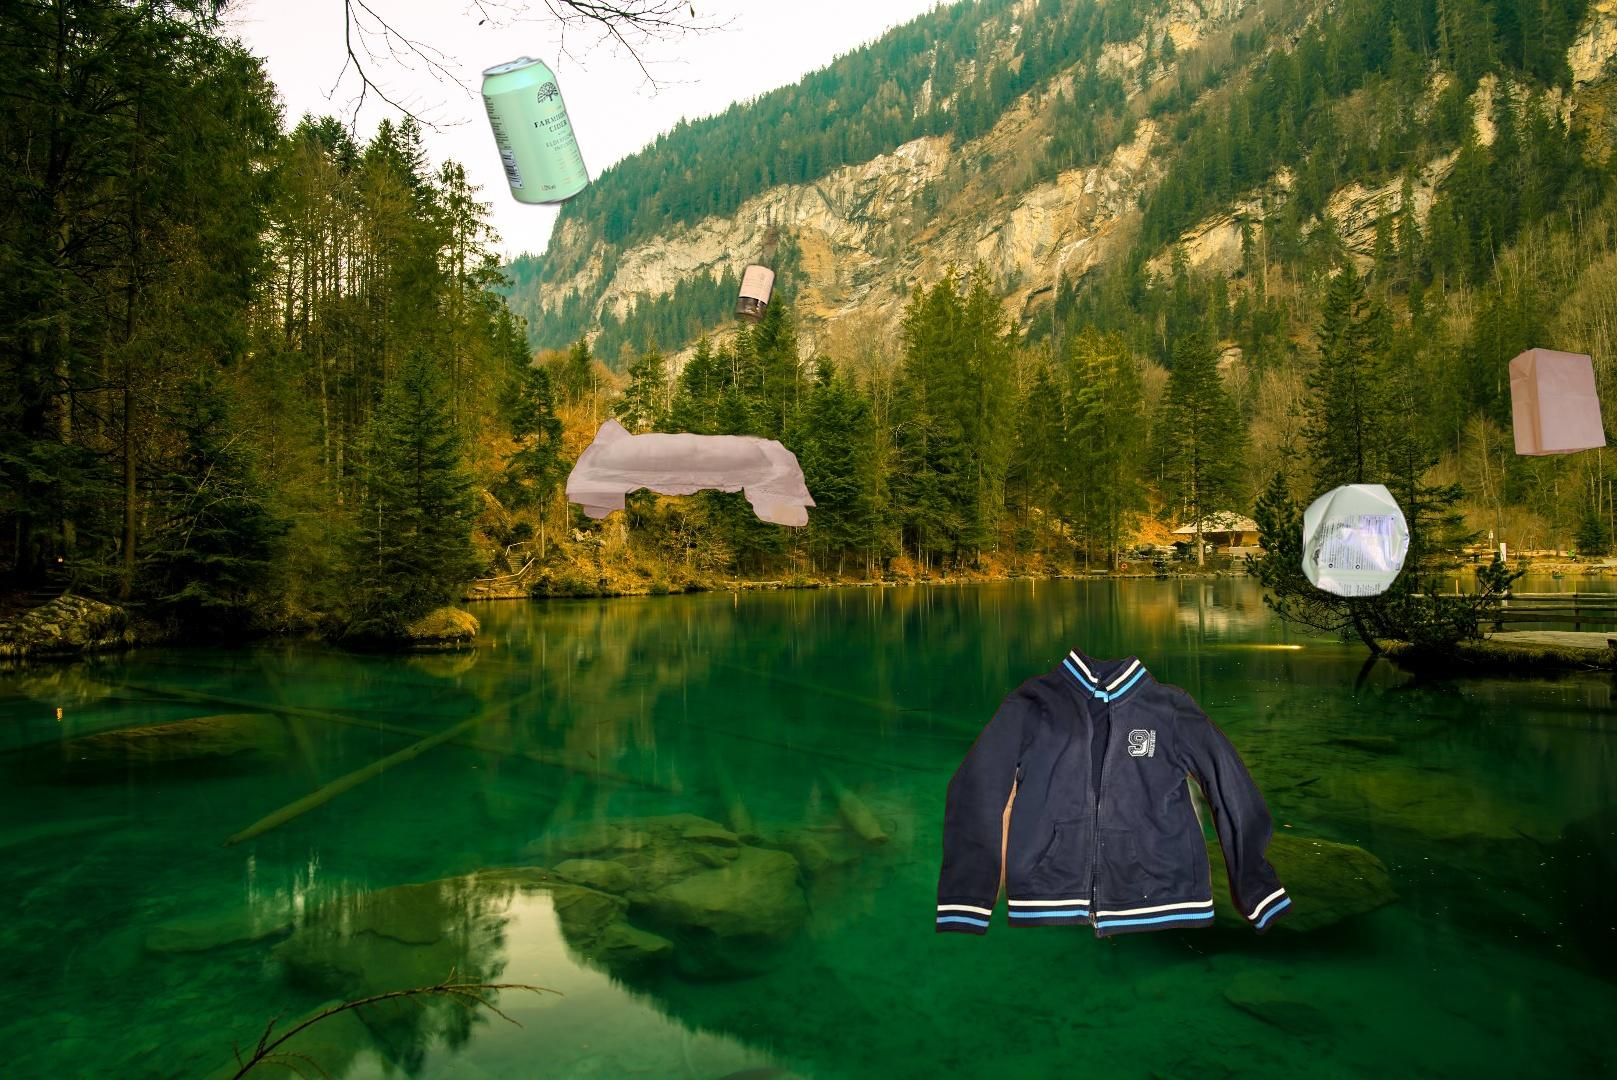clothes: (933, 644, 1298, 943)
glass: (729, 215, 821, 330)
metal-cans: (478, 52, 594, 212), (1296, 477, 1415, 604)
paper-bag: (1499, 345, 1611, 459)
trash: (561, 413, 821, 530)
